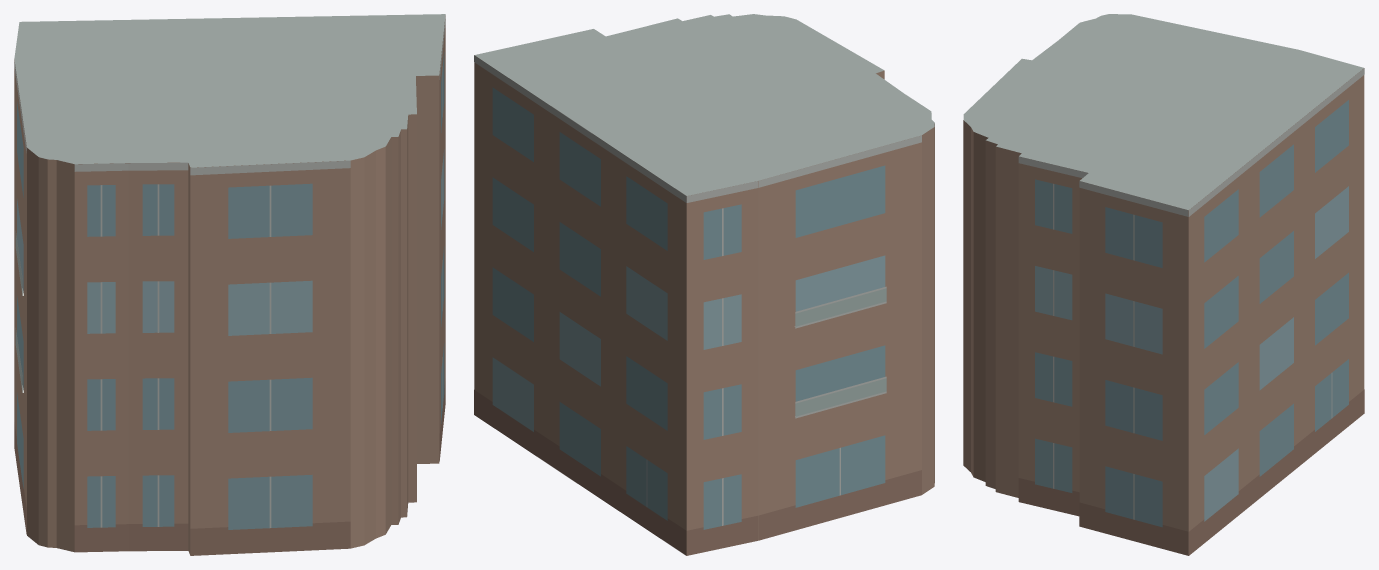
File: survey-upis-32526031.glb
3 views of the same model, side by side, from view 1: azimuth 30°, elevation 25°; view 2: azimuth 150°, elevation 25°; view 3: azimuth 270°, elevation 25° (orthographic). The views are drawn at different scales.
Parts seen in each view (by area): view 1: survey-upis-32526031.tmp; view 2: survey-upis-32526031.tmp; view 3: survey-upis-32526031.tmp.
Part boxes in pixels (x1,y1,x2,y2): survey-upis-32526031.tmp: (14, 14, 445, 555); survey-upis-32526031.tmp: (474, 14, 934, 555); survey-upis-32526031.tmp: (963, 14, 1364, 555).
Bounding box in the file's own units: 15.11 × 12.4 × 13.04.
